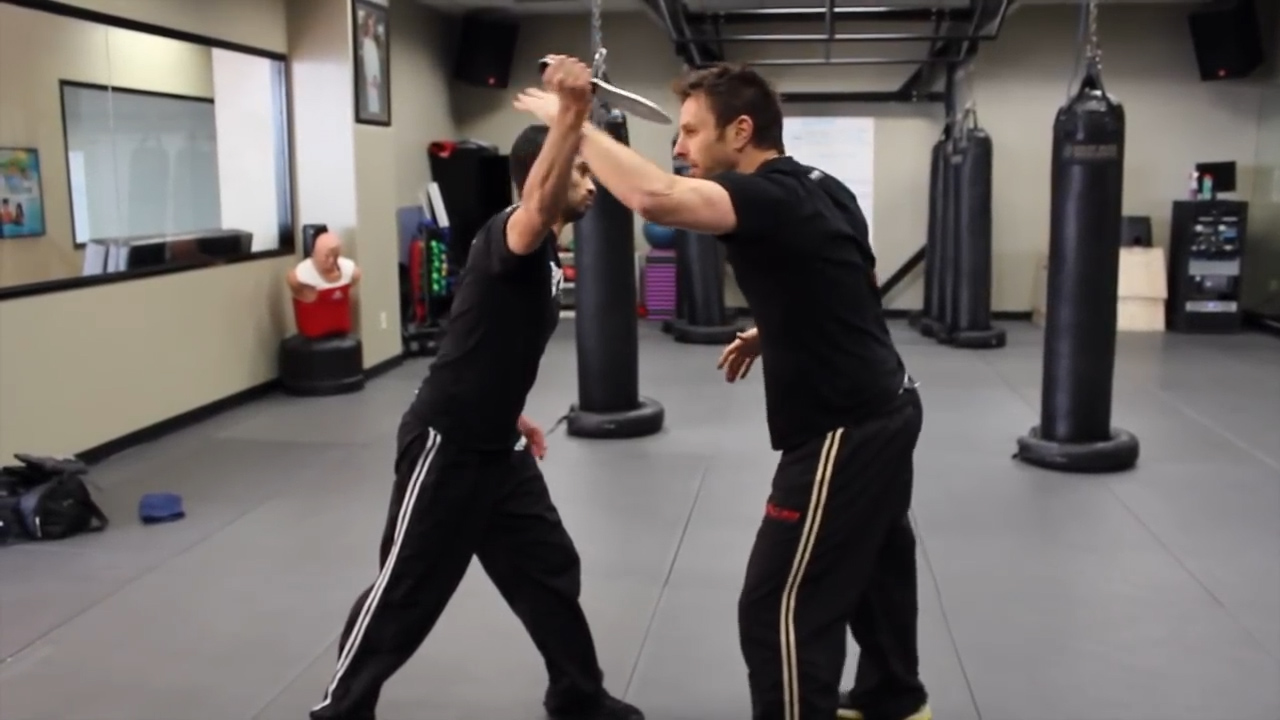knife: (536, 51, 676, 126)
